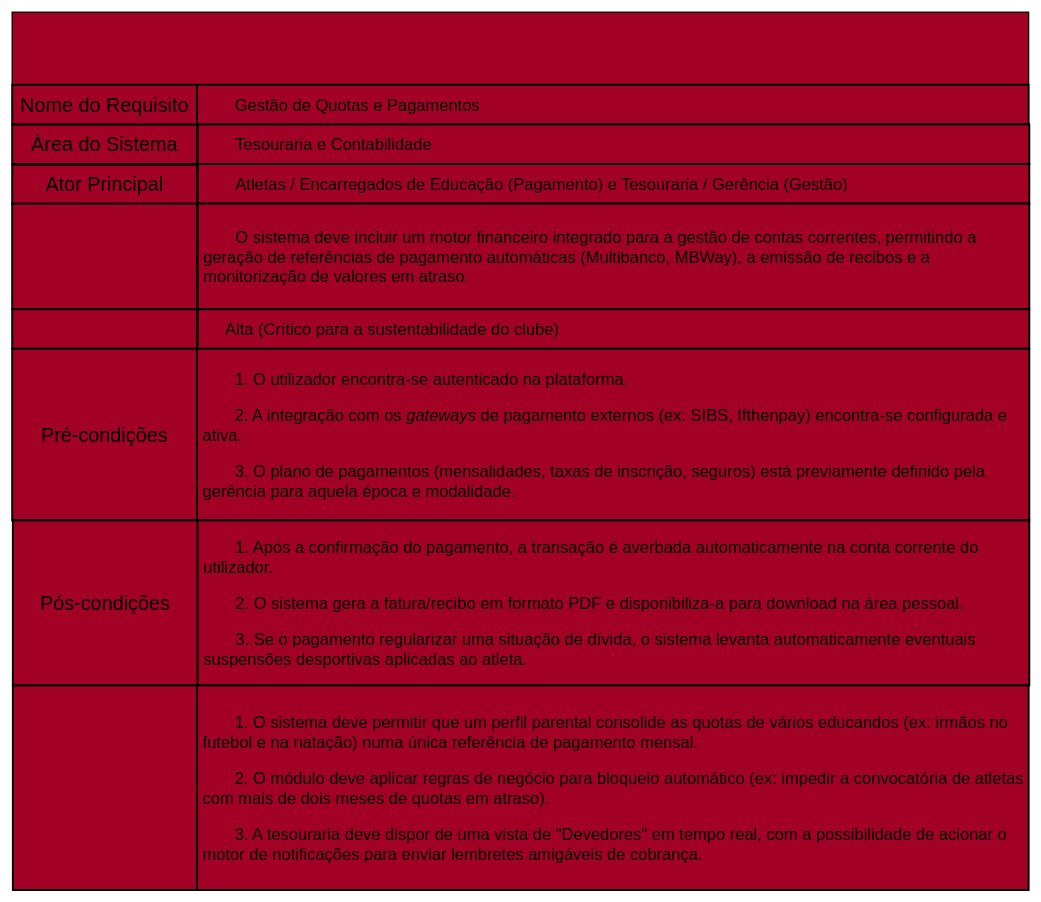
Image size: 1041x902. Some labels were removed from this diagram. The shapes that lost their labels are listed below. From the top down, each one's centre as x and y in pixels, then its label:
the point at 520,48: RF-17
the point at 104,256: Descrição
the point at 104,328: Prioridade
the point at 105,787: Critérios de Aceitação
